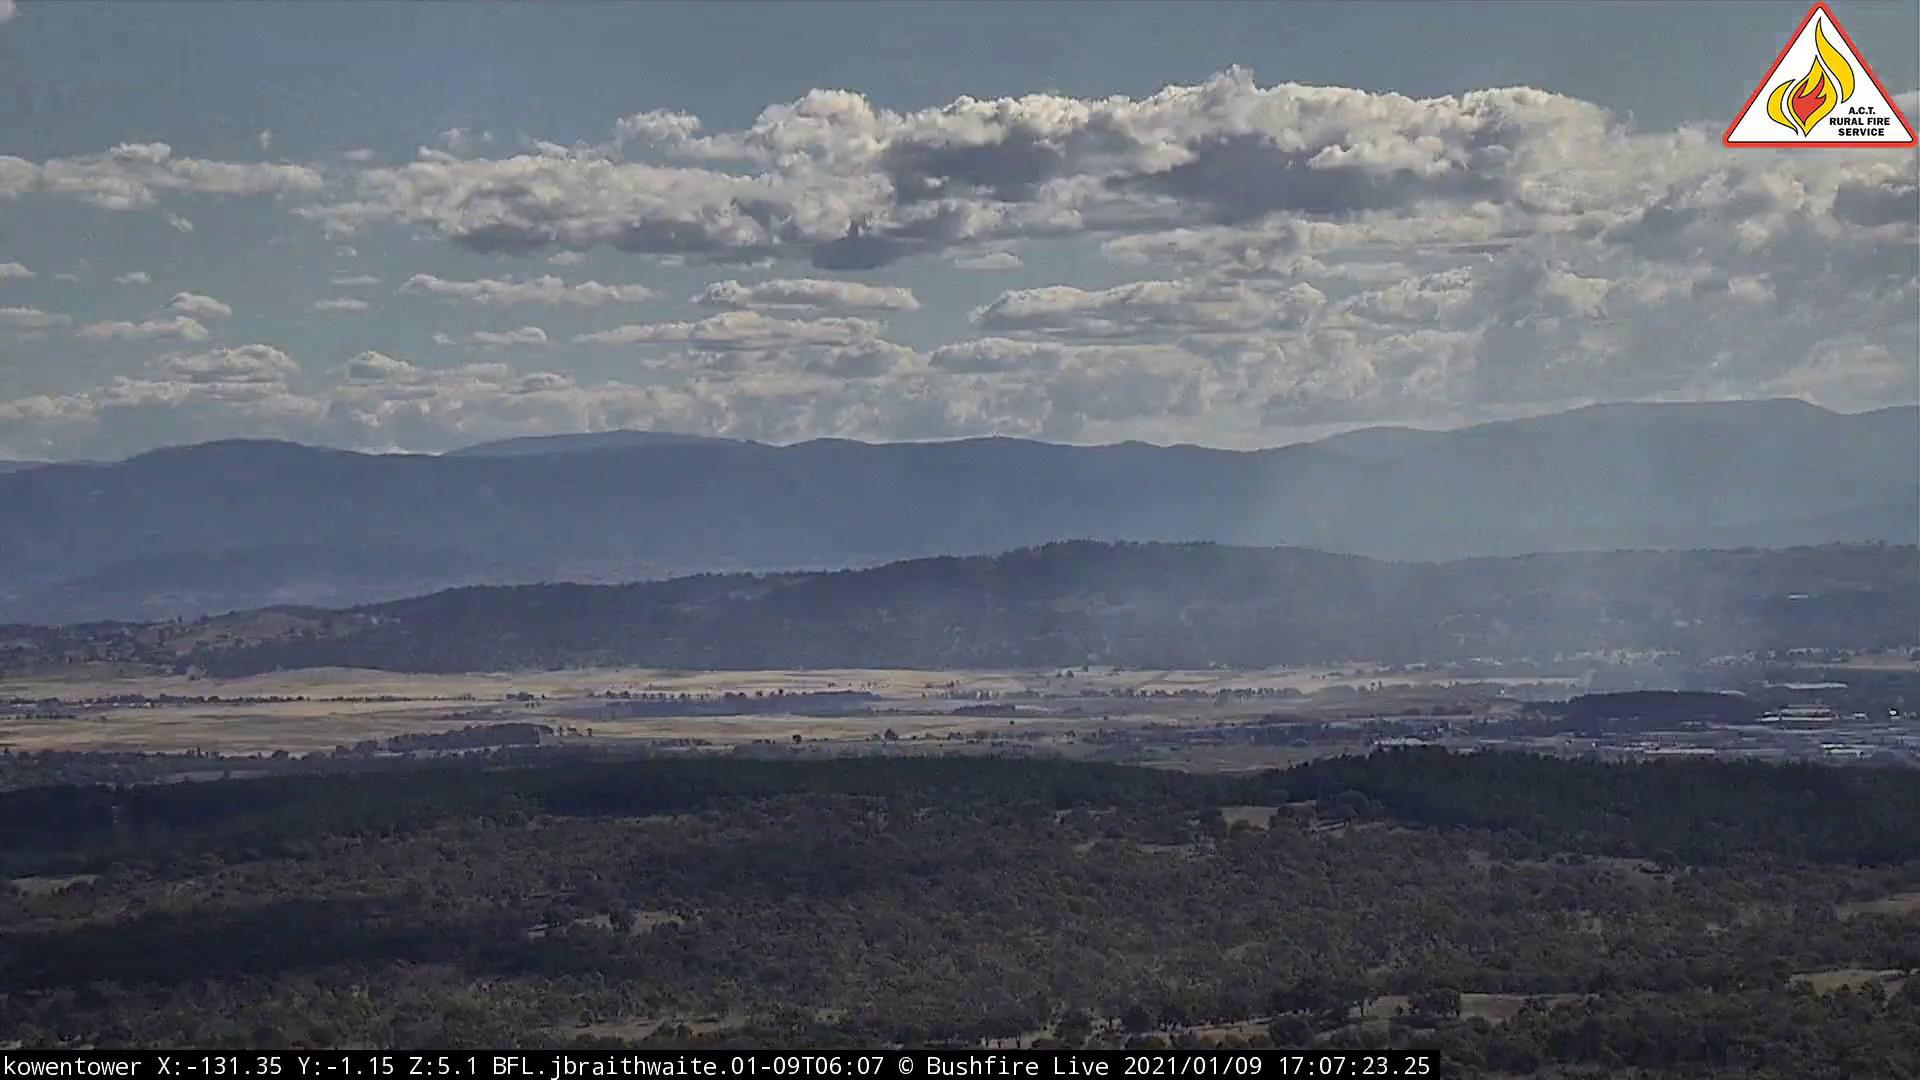Smoke: (1085, 454, 1476, 760)
